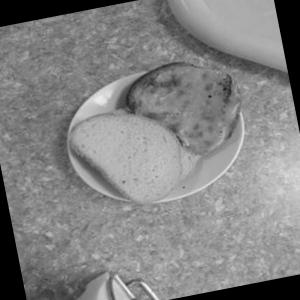bread: (55, 89, 197, 222)
cheese_sandwich: (105, 32, 258, 174)
